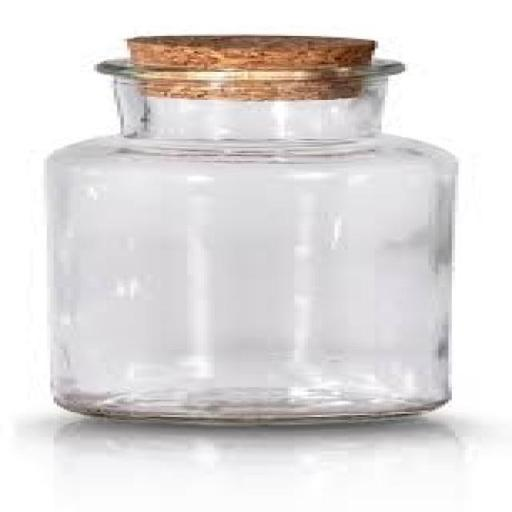glass: (46, 48, 460, 420)
